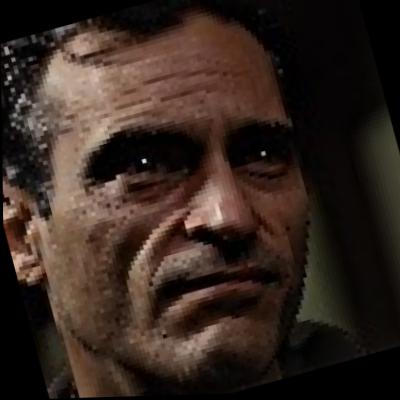sad: (11, 1, 333, 400)
